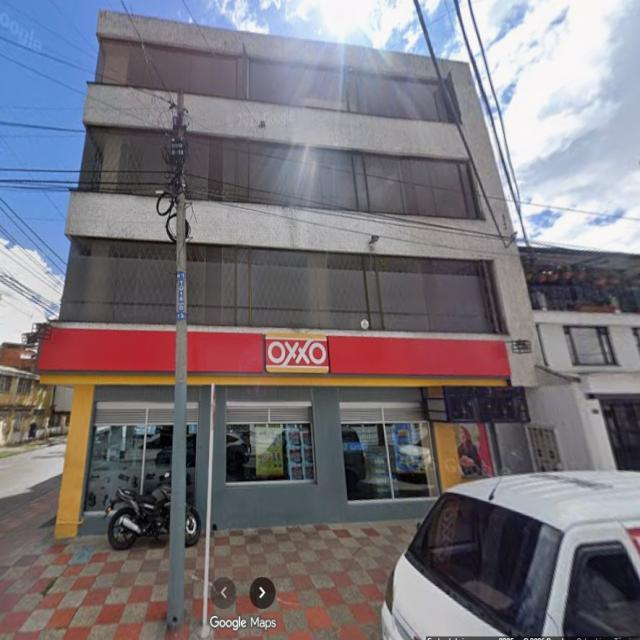Fachada: (38, 12, 552, 537), (516, 248, 639, 470)
Poste: (166, 90, 187, 629)
